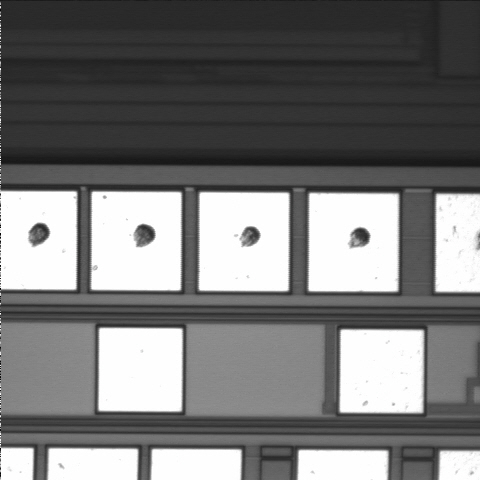pad: (199, 192, 289, 291), (91, 192, 181, 290), (309, 193, 398, 291), (99, 328, 182, 411), (340, 330, 423, 413)
